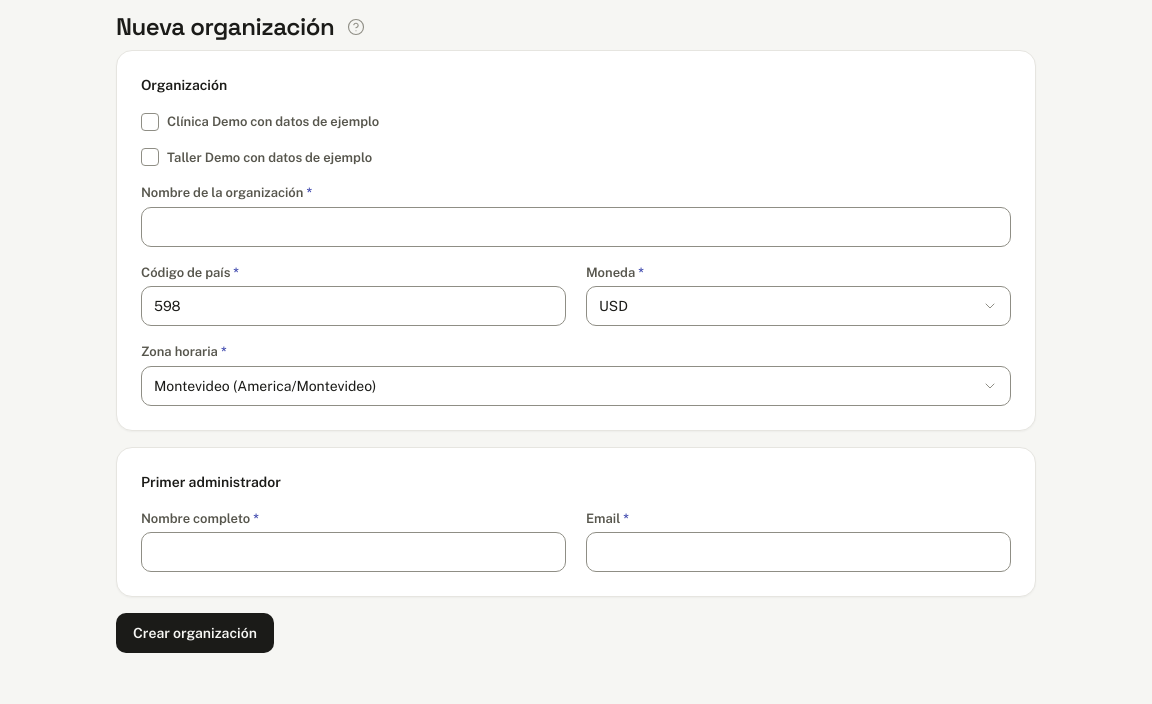
Scenario: NewOrganizationPage › 403 (no es platform admin) se muestra como error, no se muestra nada como creado
In the field labelled "Nombre de la organización": (576, 226) [141,206,1011,246], type "Automotora Pérez"
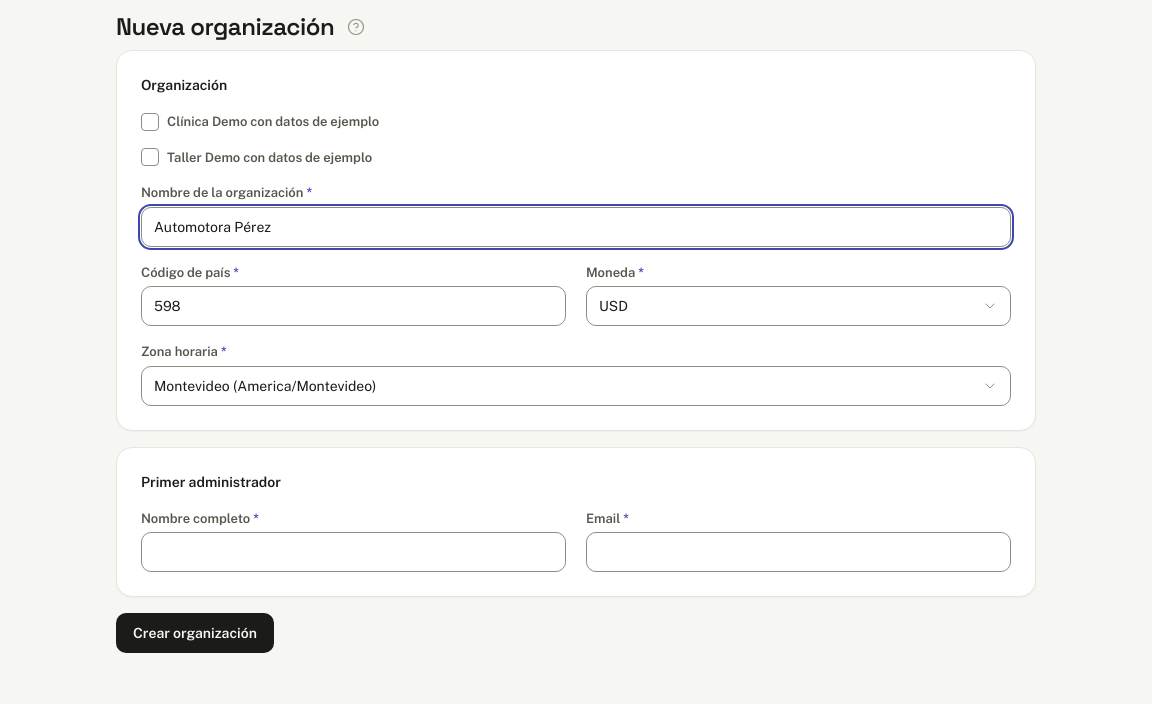
In the field labelled "Nombre completo": (354, 552) [141,532,566,572], type "Juan Pérez"
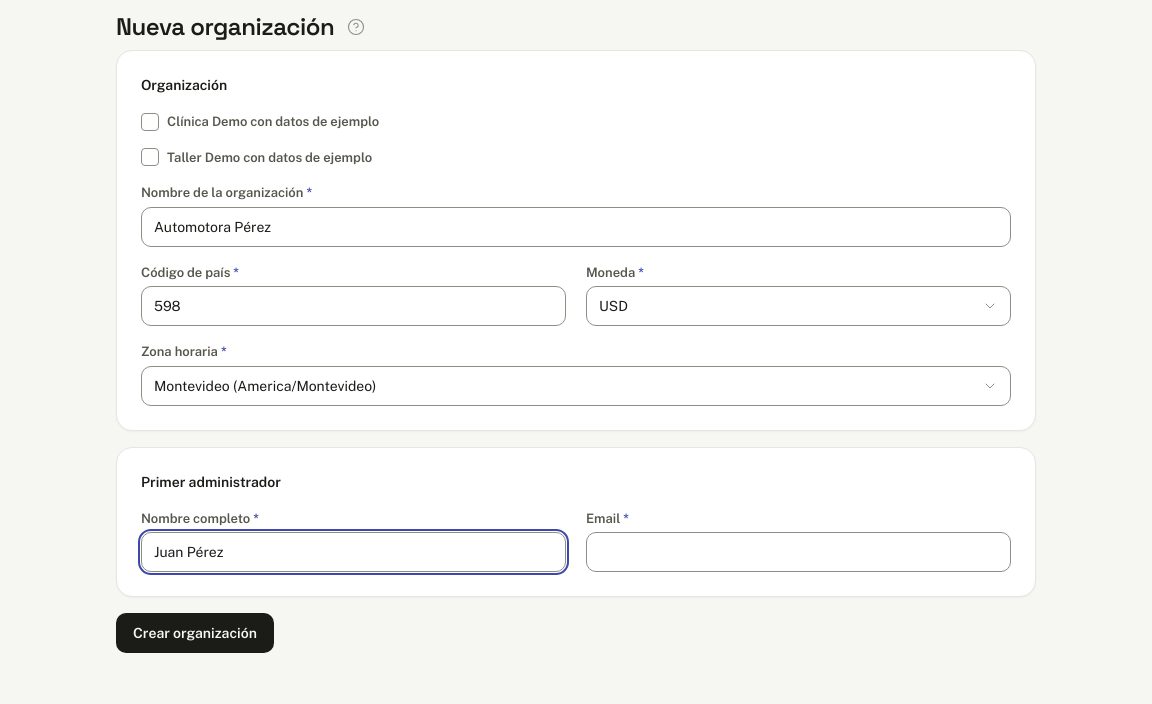
In the field labelled "Email": (798, 552) [586,532,1011,572], type "juan@perez.test"
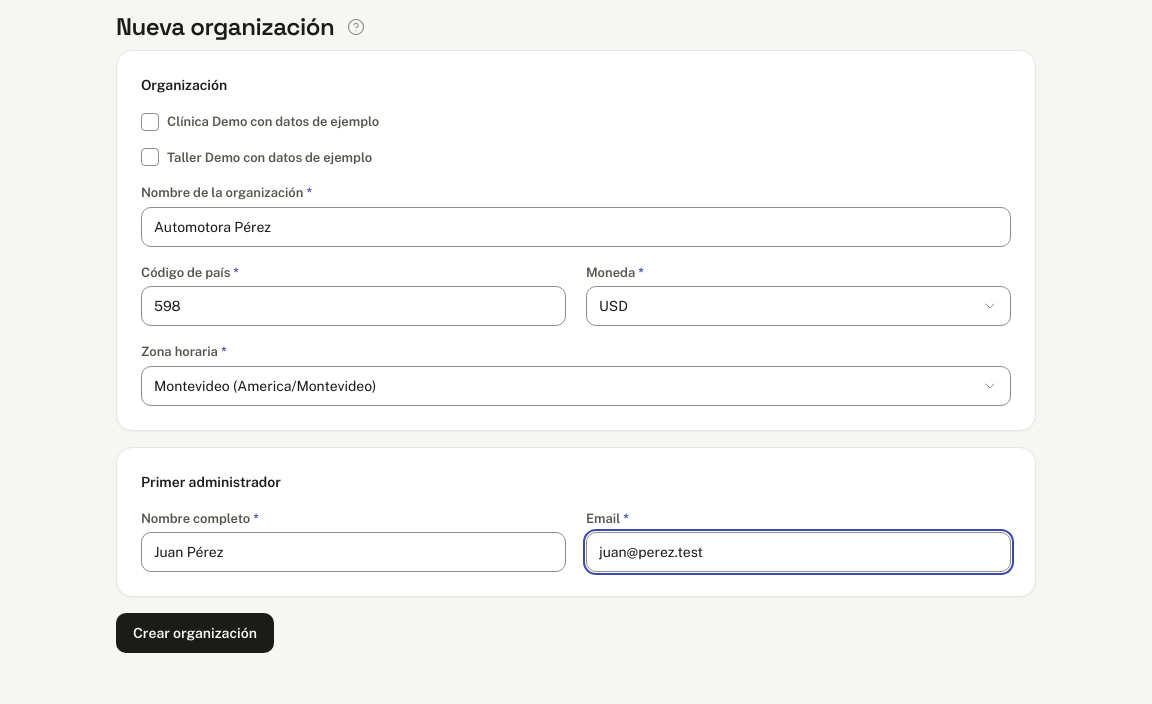
Click the button "Crear organización": click(195, 633) [116,613,274,653]
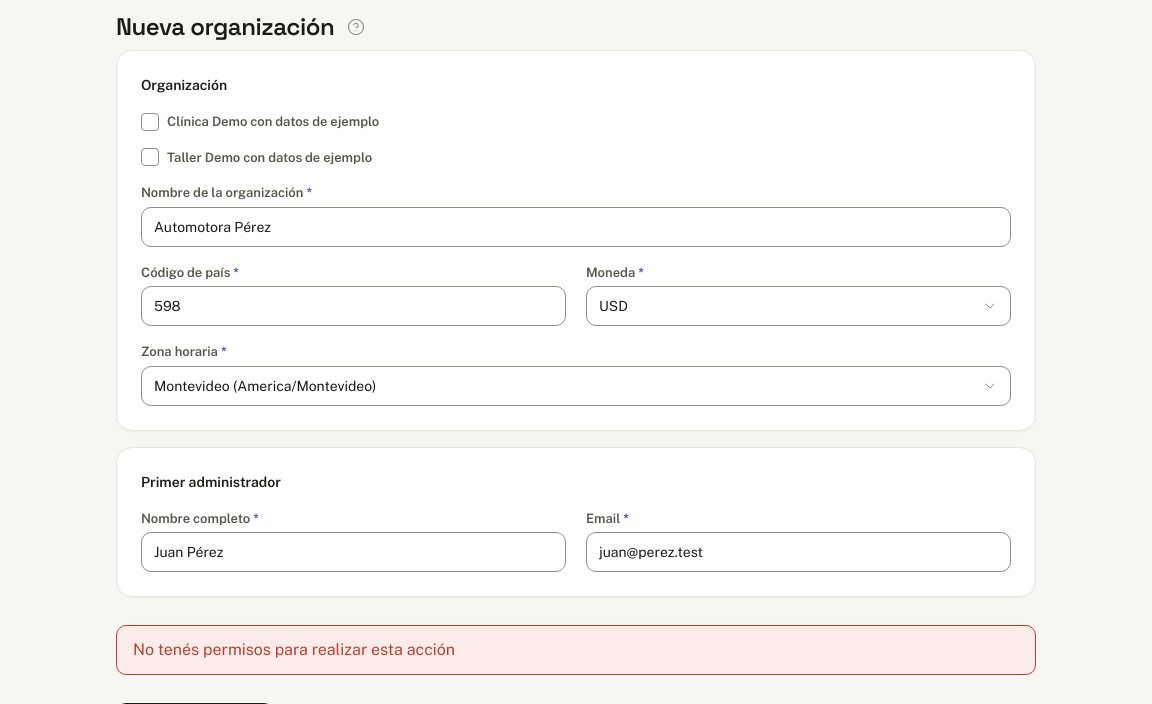
Expected: the message reads "No tenés permisos para realizar esta acción", [133,640,455,659]
